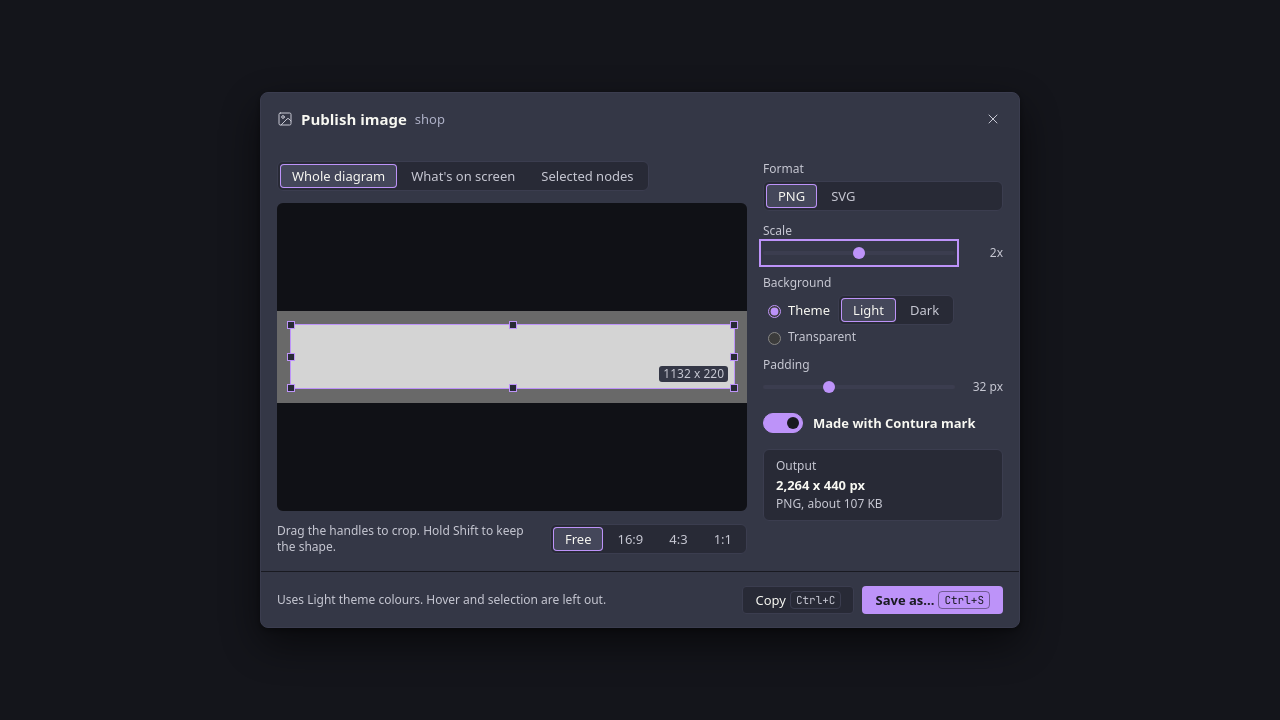
Test: dragging_a_handle_snaps_to_a_node_edge_and_alt_drags_freely
Press the mouse on the element with class "publish-handle-e": (734, 356) left=730, top=352, right=738, bottom=360
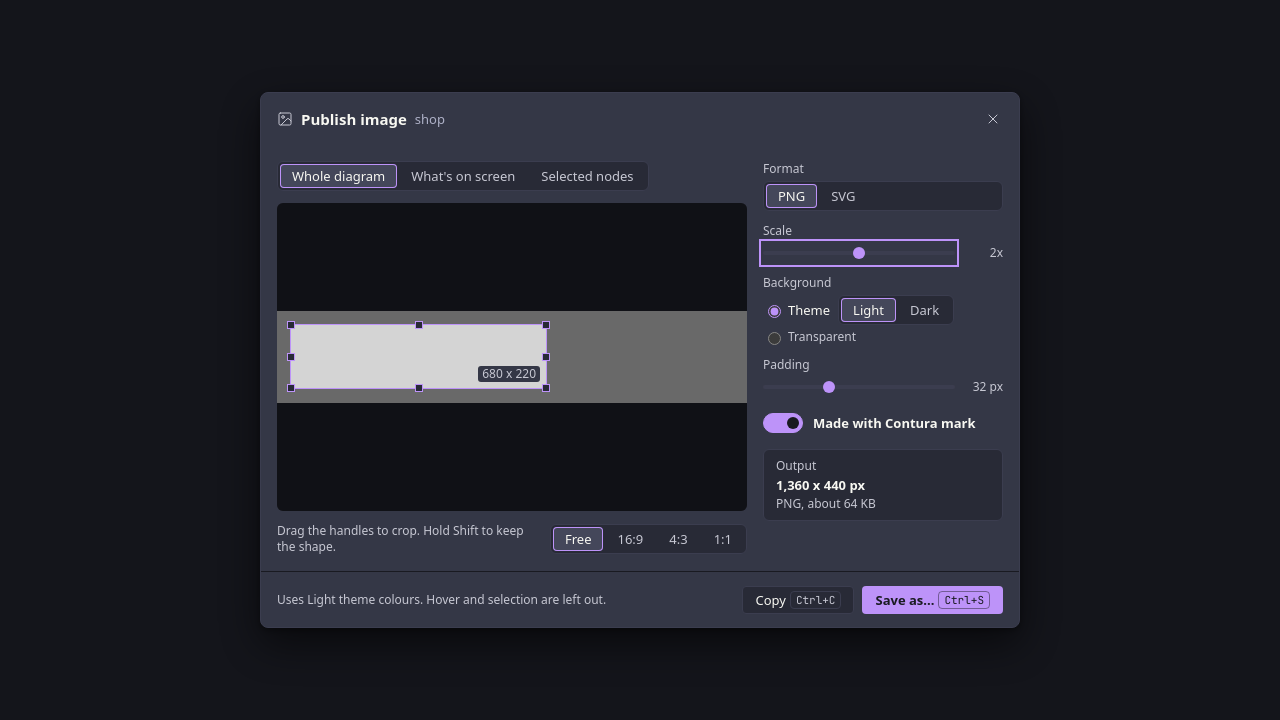
Now the text "680 x 220" is shown, box left=478, top=366, right=540, bottom=382
Press the mouse on the element with class "publish-handle-e": (546, 356) left=542, top=352, right=550, bottom=360
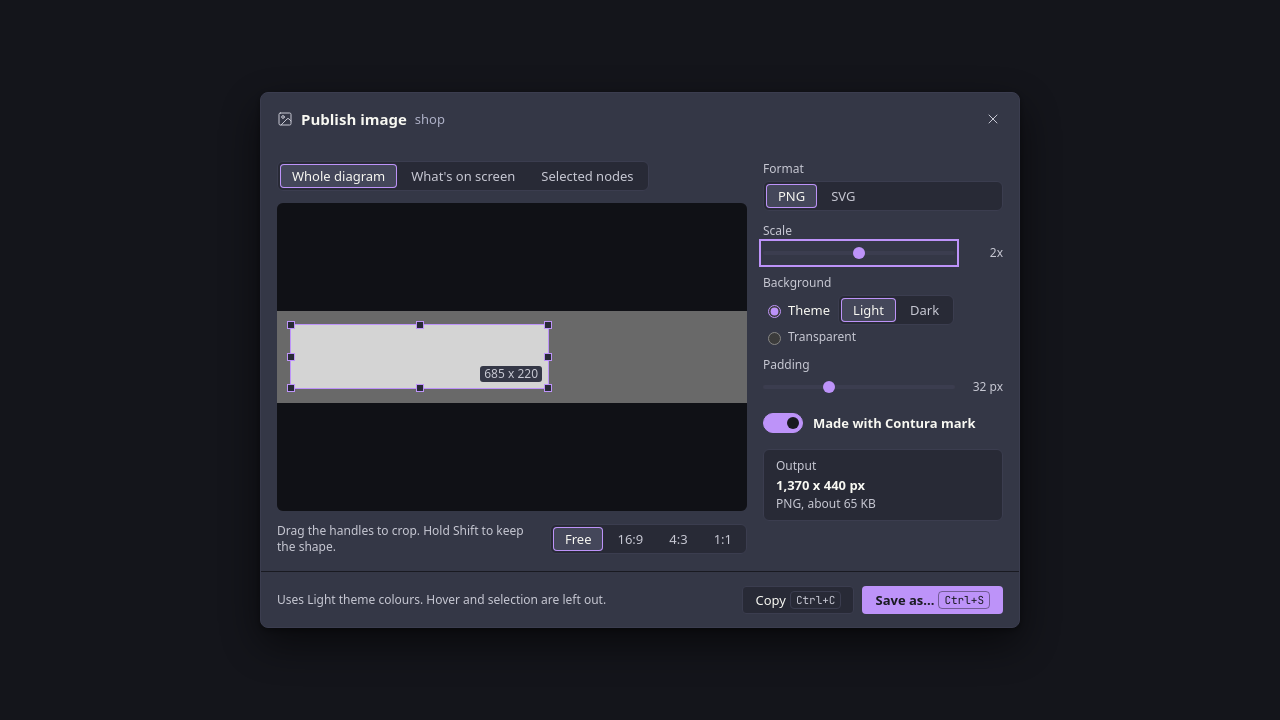
Now the text "680 x 220" is gone
Now the text "685 x 220" is shown, box left=480, top=366, right=542, bottom=382
